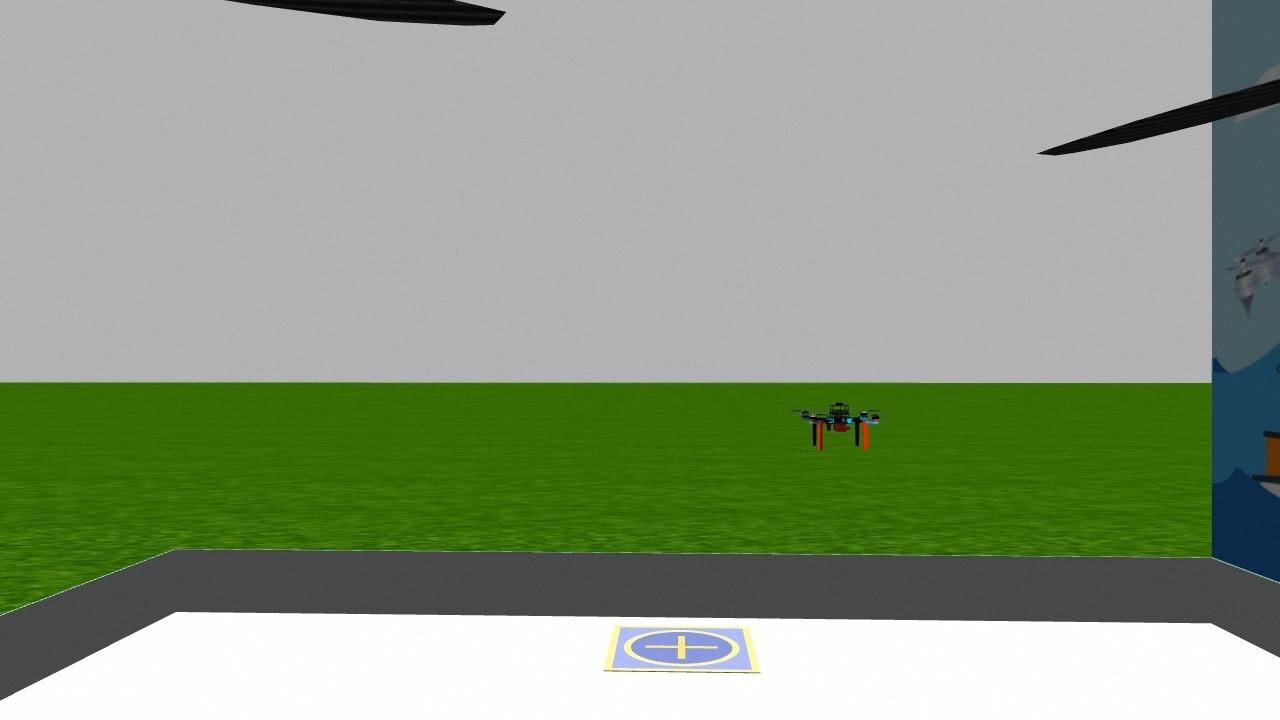UAV: (794, 395, 884, 454)
